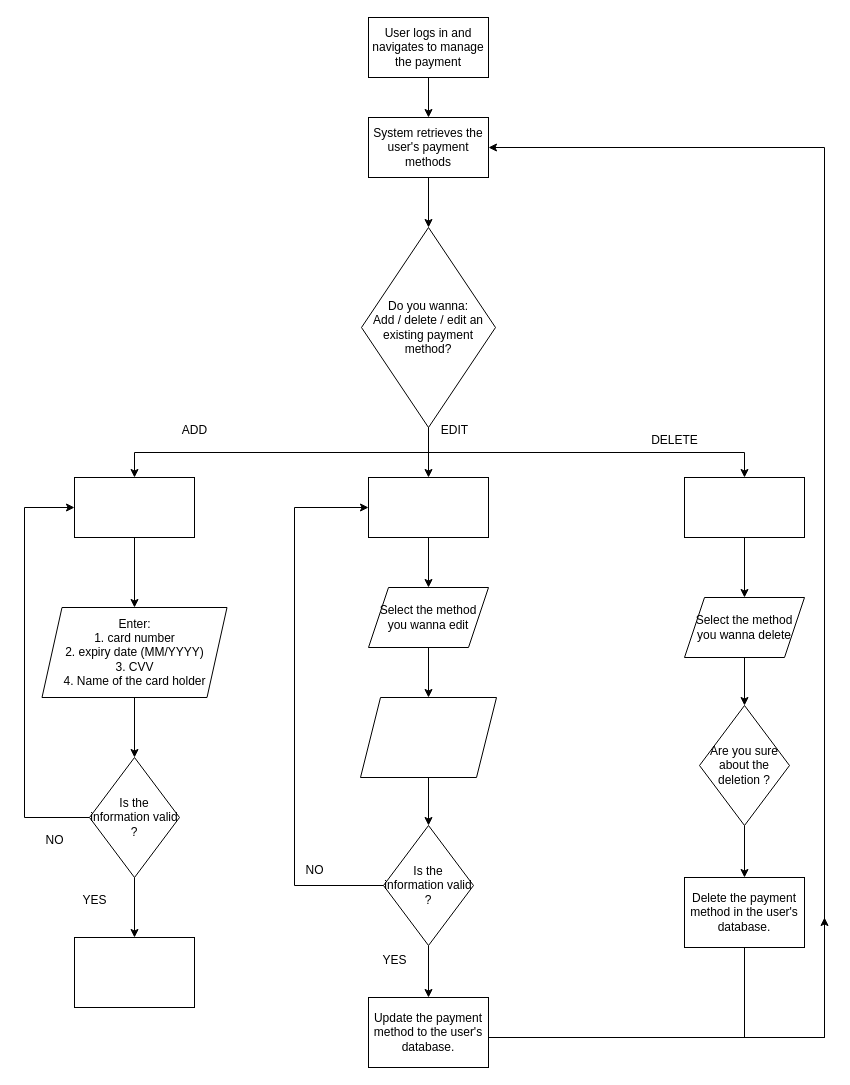
Some shapes in this 850 by 1085 pixel diagram are drawn without their labels. The centre of each missing label's shape, as x and y in pixels:
"Add new payment method" goes at point 134,507.
"Add the payment method to the user's database. Redirect to the confirmation page" goes at point 134,972.
"Delete an existing payment method" goes at point 744,507.
"Edit existing payment method" goes at point 428,507.
"Select the info you wanna edit and make changes" goes at point 428,737.
